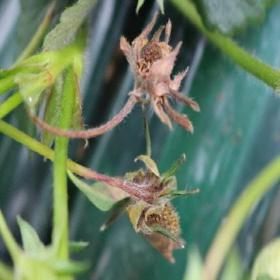Gray Mold: (93, 10, 201, 135), (88, 153, 199, 264)
